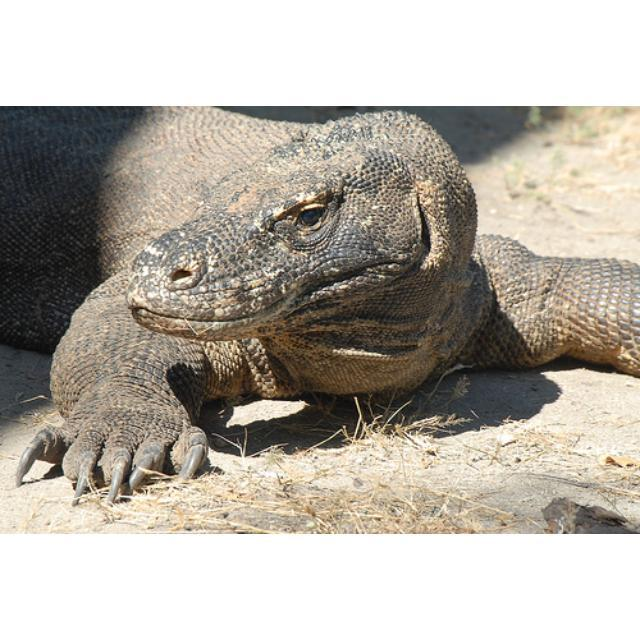KomodoDragon: (1, 107, 638, 506)
